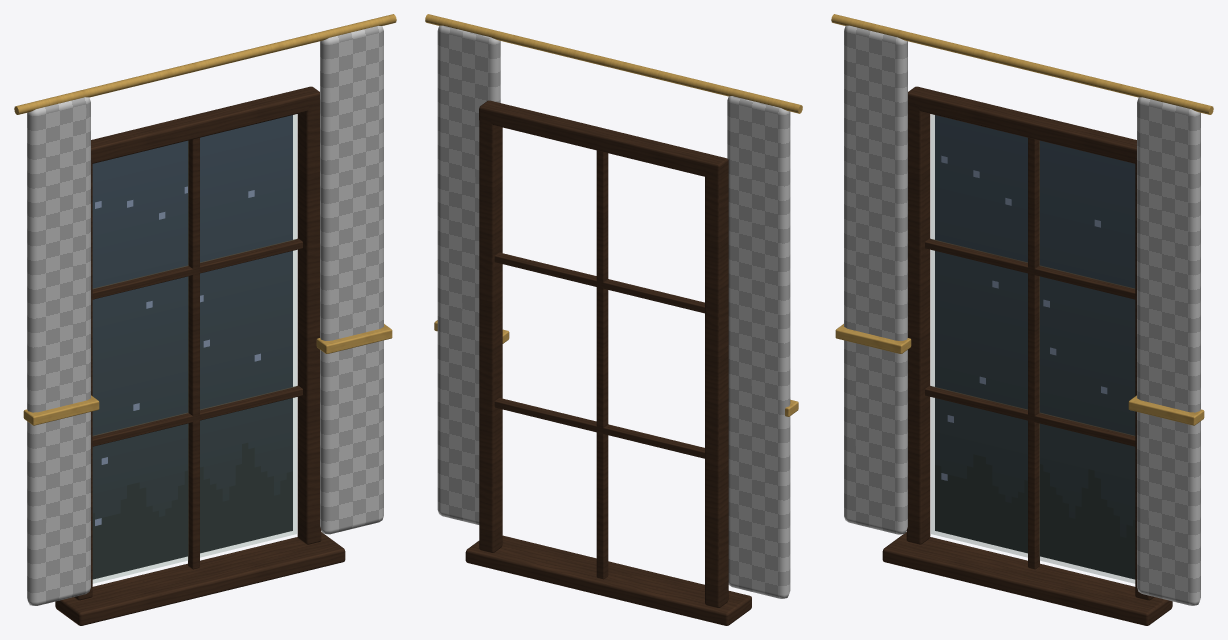
Rendered from window.glb.
3 renders of one model, left to right at view 1: azimuth 30°, elevation 25°; view 2: azimuth 150°, elevation 25°; view 3: azimuth 330°, elevation 25°, orthographic.
Visible parts, largest first — view 1: window, dyn_velvet_variant; view 2: dyn_velvet_variant, window; view 3: window, dyn_velvet_variant.
Boxes of the visible parts, x1,y1,x2,y2 form: window: [14, 14, 396, 625]; dyn_velvet_variant: [27, 26, 383, 605]; dyn_velvet_variant: [437, 25, 790, 598]; window: [425, 14, 802, 625]; window: [831, 14, 1213, 625]; dyn_velvet_variant: [844, 25, 1200, 605].
Size of the model in its own units: 1.7 by 2.28 by 0.2002.
Materials: 6 (5 with a texture image).
